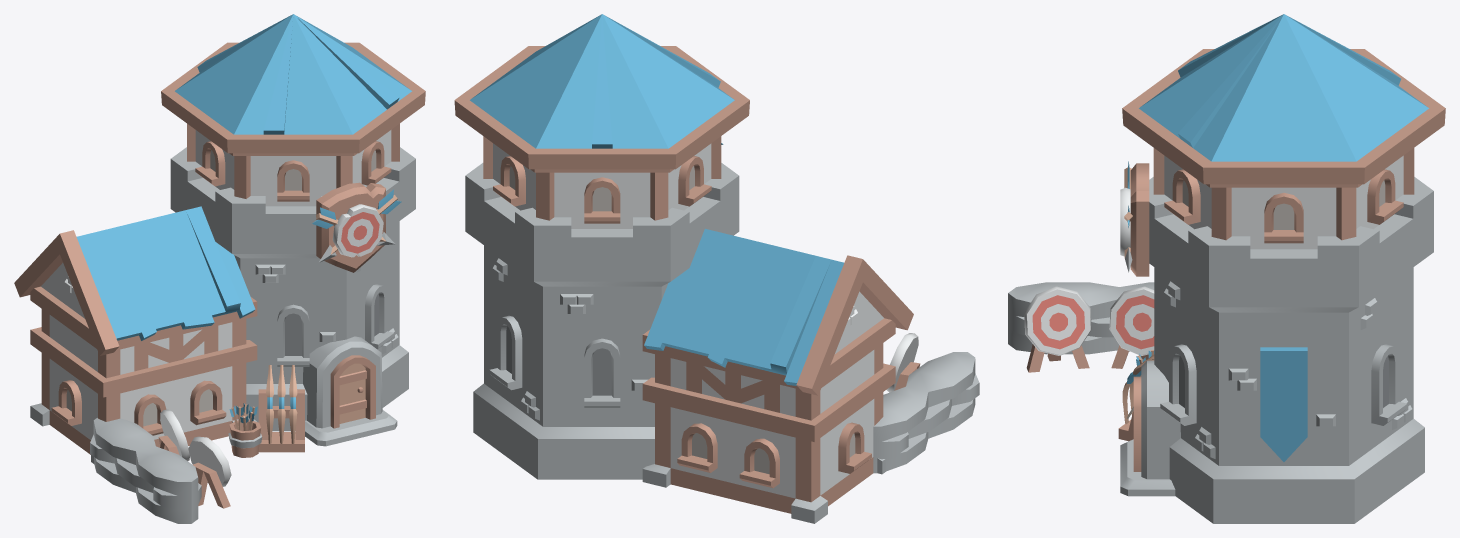
Rendered from archeryrange_part.glb.
The picture shows the model from 3 angles, left to right: view 1: azimuth 30°, elevation 25°; view 2: azimuth 150°, elevation 25°; view 3: azimuth 270°, elevation 25°; orthographic projection. The views are drawn at different scales.
Visible parts, largest first — view 1: X_building_archeryrange_blue; view 2: X_building_archeryrange_blue; view 3: X_building_archeryrange_blue.
Boxes of the visible parts, x1,y1,x2,y2 form: X_building_archeryrange_blue: (14,14,425,523); X_building_archeryrange_blue: (454,14,979,523); X_building_archeryrange_blue: (1008,14,1445,523).
Bounding box in the file's own units: 1.67 × 1.79 × 1.55.
